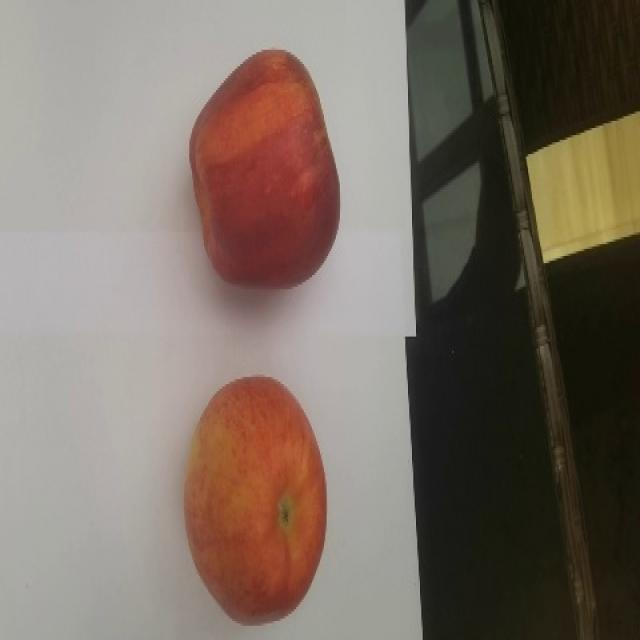Apple: (188, 47, 340, 289), (182, 374, 327, 626)
